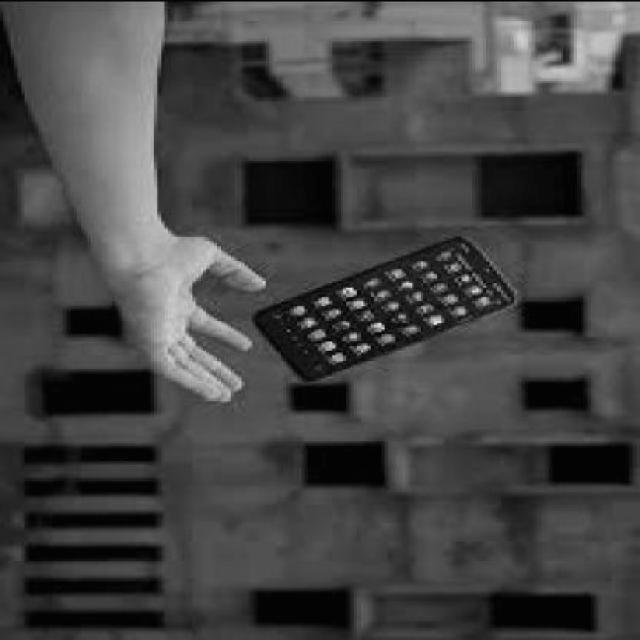fake: (252, 233, 520, 384)
